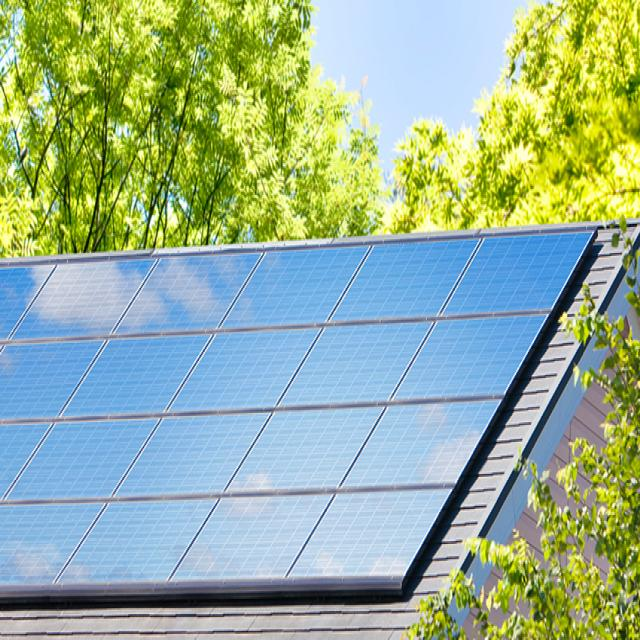clean-solar-panel: (0, 231, 594, 601)
